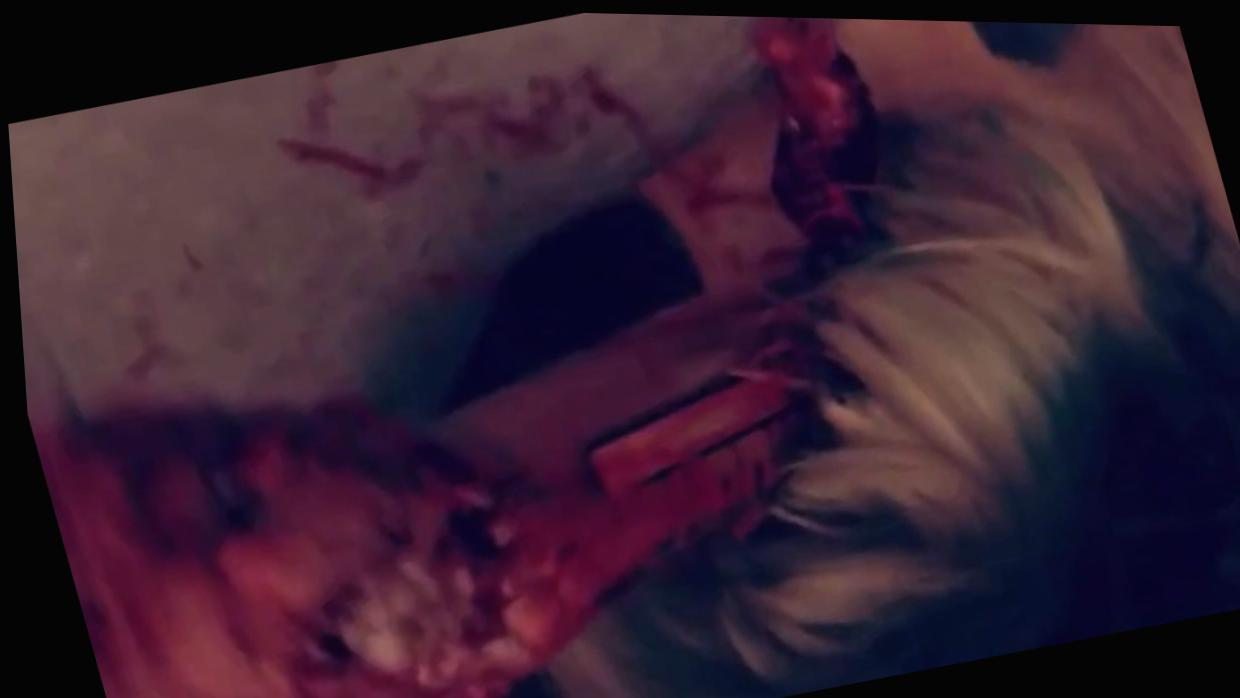Fire: (18, 13, 878, 698)
